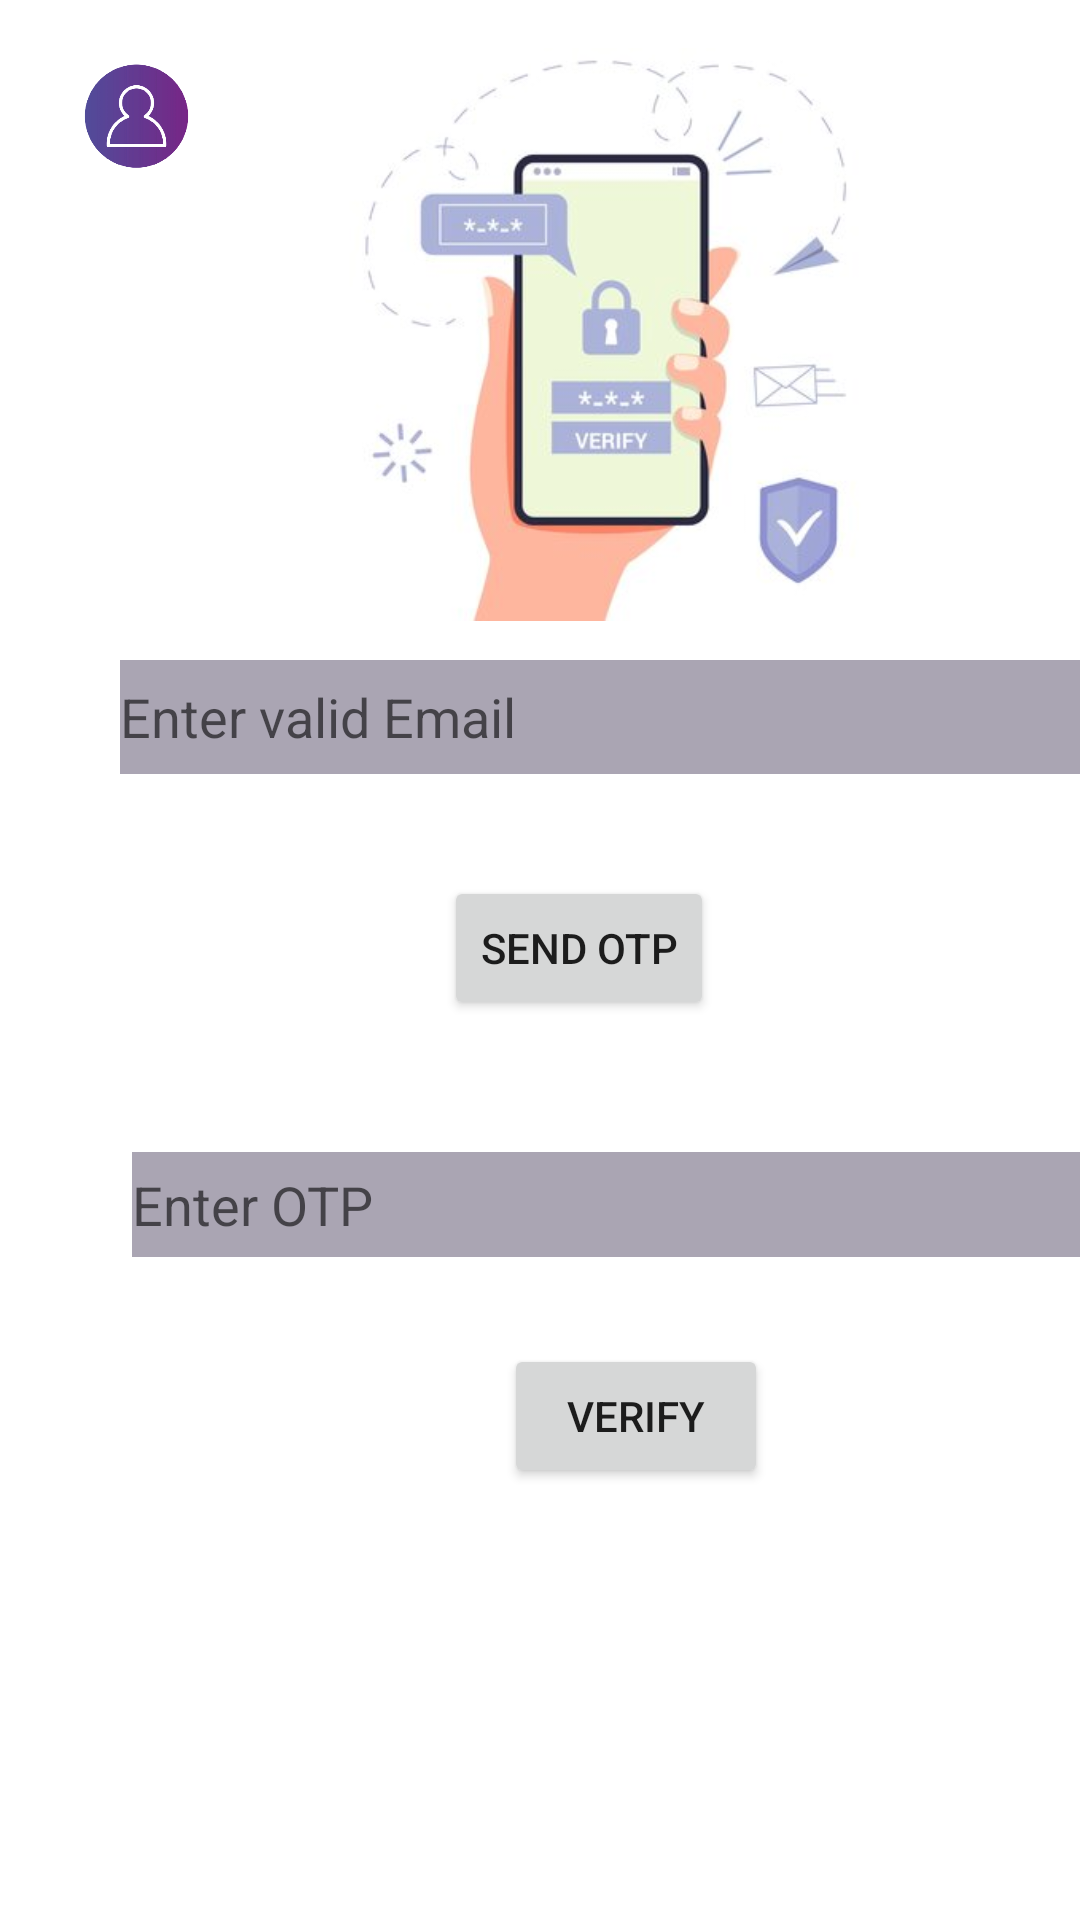

Where icons sit on this 1080w x 1920h app screen, as (x1, y1, x2, y2):
login create: (85, 64, 188, 168)
